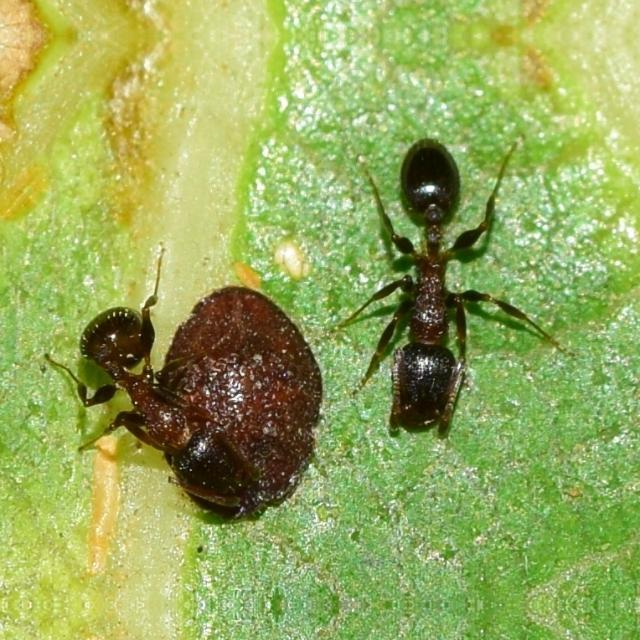Temnothorax: (330, 115, 538, 455), (48, 300, 258, 518)
